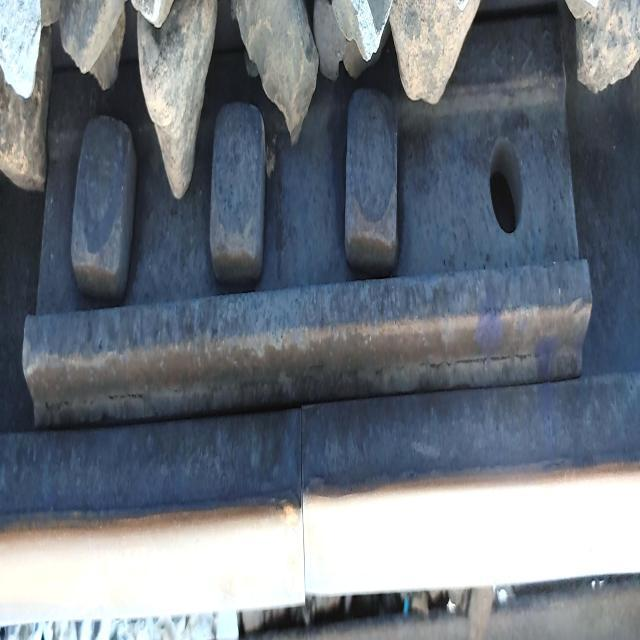Defective Joint: (20, 59, 585, 430)
